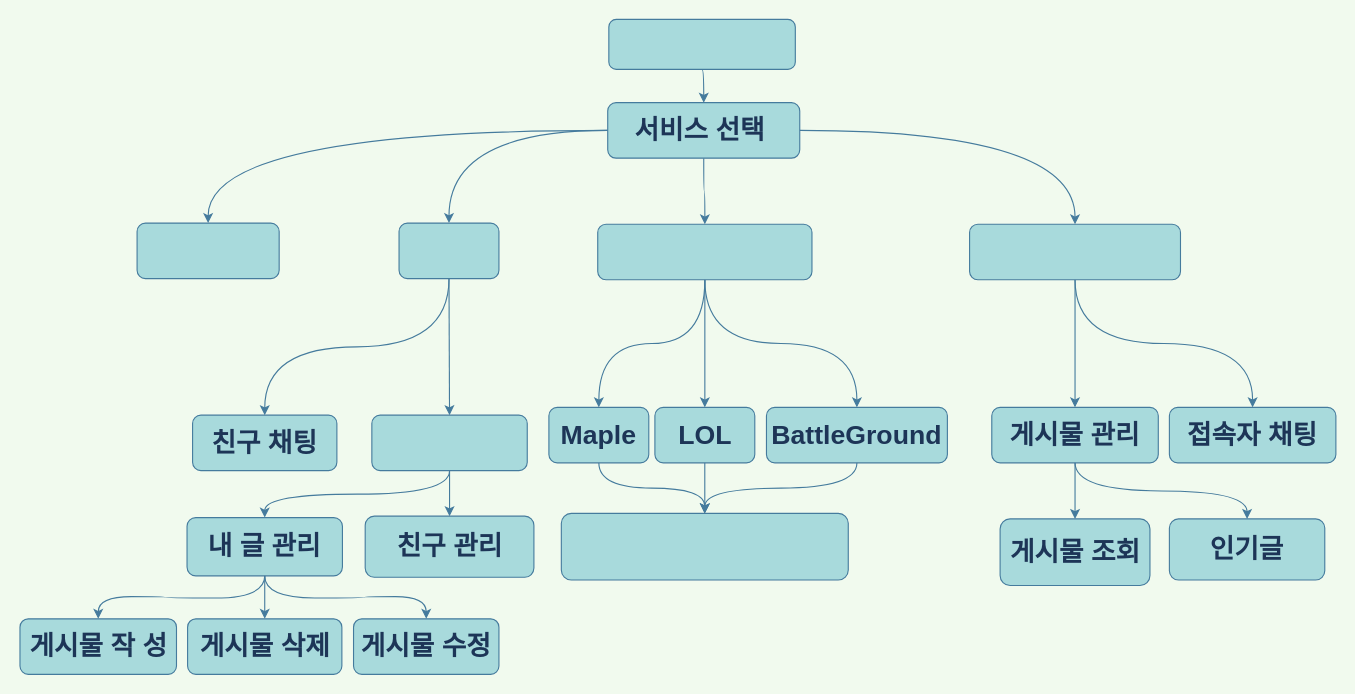
This 1355x694 diagram has some shape labels left out. Each missing label, with the centre of its shape:
"게임별 api 활용 서비스" belongs at point (704, 546).
"로그인" belongs at point (448, 250).
"마이 페이지" belongs at point (449, 442).
"전적 검색 서비스" belongs at point (704, 251).
"커뮤니티 서비스" belongs at point (1074, 251).
"플랫폼 시작" belongs at point (701, 43).
"회원가입" belongs at point (207, 250).
